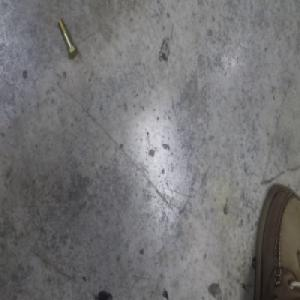Bolt: (57, 16, 78, 61)
